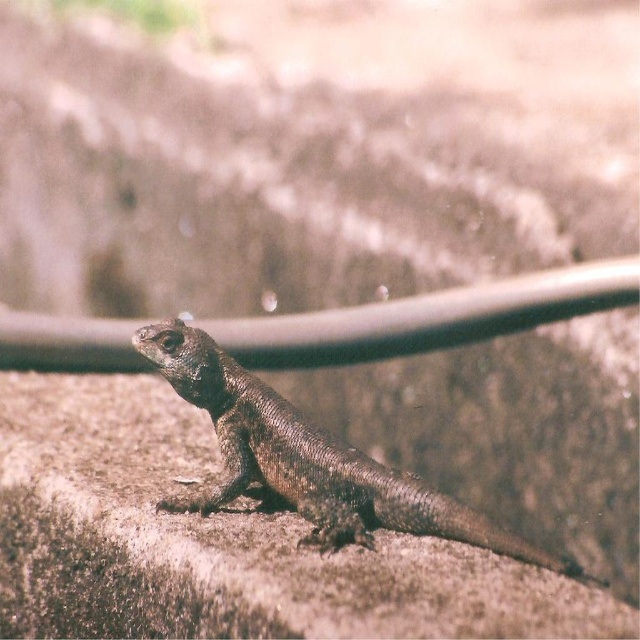Lizard: (131, 321, 606, 583)
